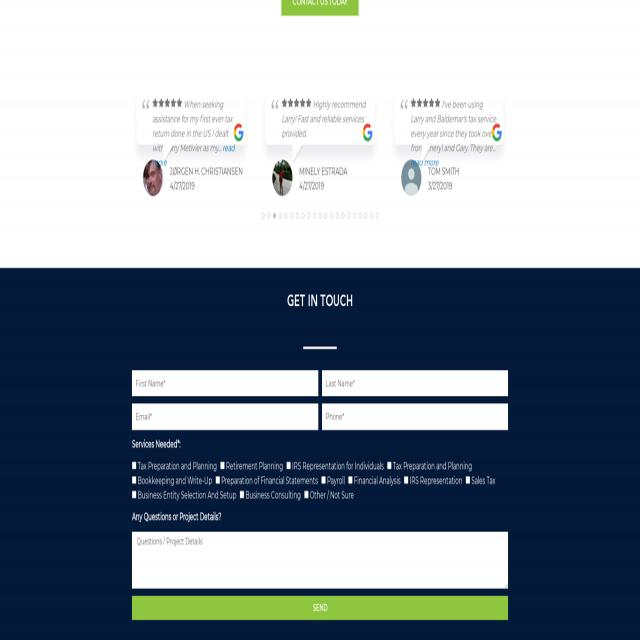button: (133, 595, 508, 619), (281, 0, 358, 15), (143, 160, 163, 196), (272, 160, 292, 196), (402, 160, 422, 196), (234, 122, 244, 142), (363, 122, 373, 142), (492, 122, 502, 142), (266, 212, 271, 220), (306, 212, 311, 220), (278, 212, 283, 220), (261, 211, 265, 220), (346, 212, 351, 219), (329, 212, 334, 219), (289, 212, 294, 219), (323, 212, 328, 219), (341, 212, 345, 220), (272, 212, 276, 220), (312, 212, 316, 220), (301, 212, 305, 220), (284, 212, 288, 220), (352, 213, 357, 219), (295, 212, 299, 219), (375, 212, 379, 219), (358, 212, 362, 219), (335, 212, 339, 219), (318, 212, 322, 219), (364, 213, 368, 219), (370, 213, 373, 219)
field: (132, 531, 508, 588), (132, 370, 318, 397), (322, 370, 508, 397), (132, 404, 318, 431), (322, 404, 508, 431), (321, 476, 326, 484), (348, 476, 353, 484), (304, 490, 309, 498), (220, 462, 225, 469), (286, 462, 291, 469), (132, 476, 136, 484), (216, 476, 220, 484), (404, 476, 408, 484), (466, 476, 470, 484), (132, 490, 136, 498), (240, 490, 244, 498), (132, 462, 136, 469), (387, 462, 391, 469)
